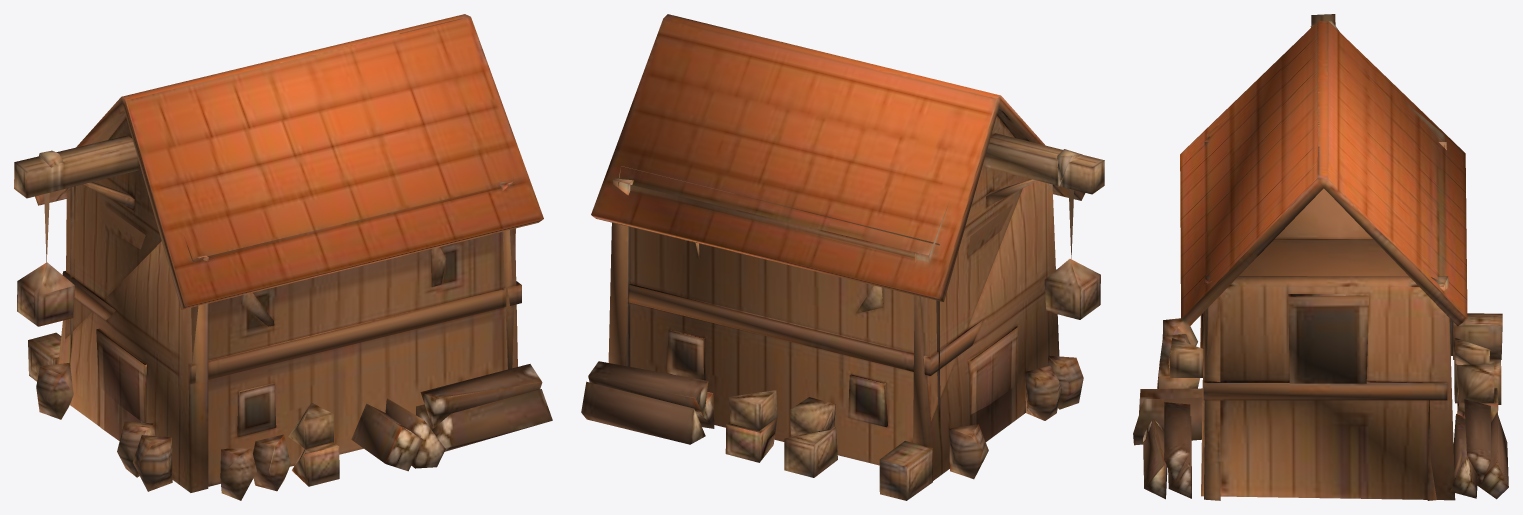
3 views of the same model, side by side, from view 1: azimuth 30°, elevation 25°; view 2: azimuth 150°, elevation 25°; view 3: azimuth 270°, elevation 25° (orthographic). The views are drawn at different scales.
Visible parts, largest first — view 1: supply33; view 2: supply33; view 3: supply33.
Boxes of the visible parts, x1,y1,x2,y2 form: supply33: (14,14,552,500); supply33: (581,14,1104,500); supply33: (1133,14,1508,500).
Bounding box in the file's own units: 2.9 × 2.16 × 2.24.
1 material, 1 textured.
